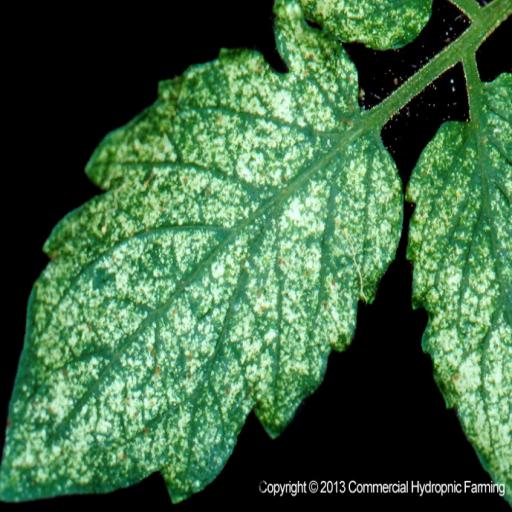Spider Mites: (0, 0, 403, 512), (408, 69, 512, 511)
